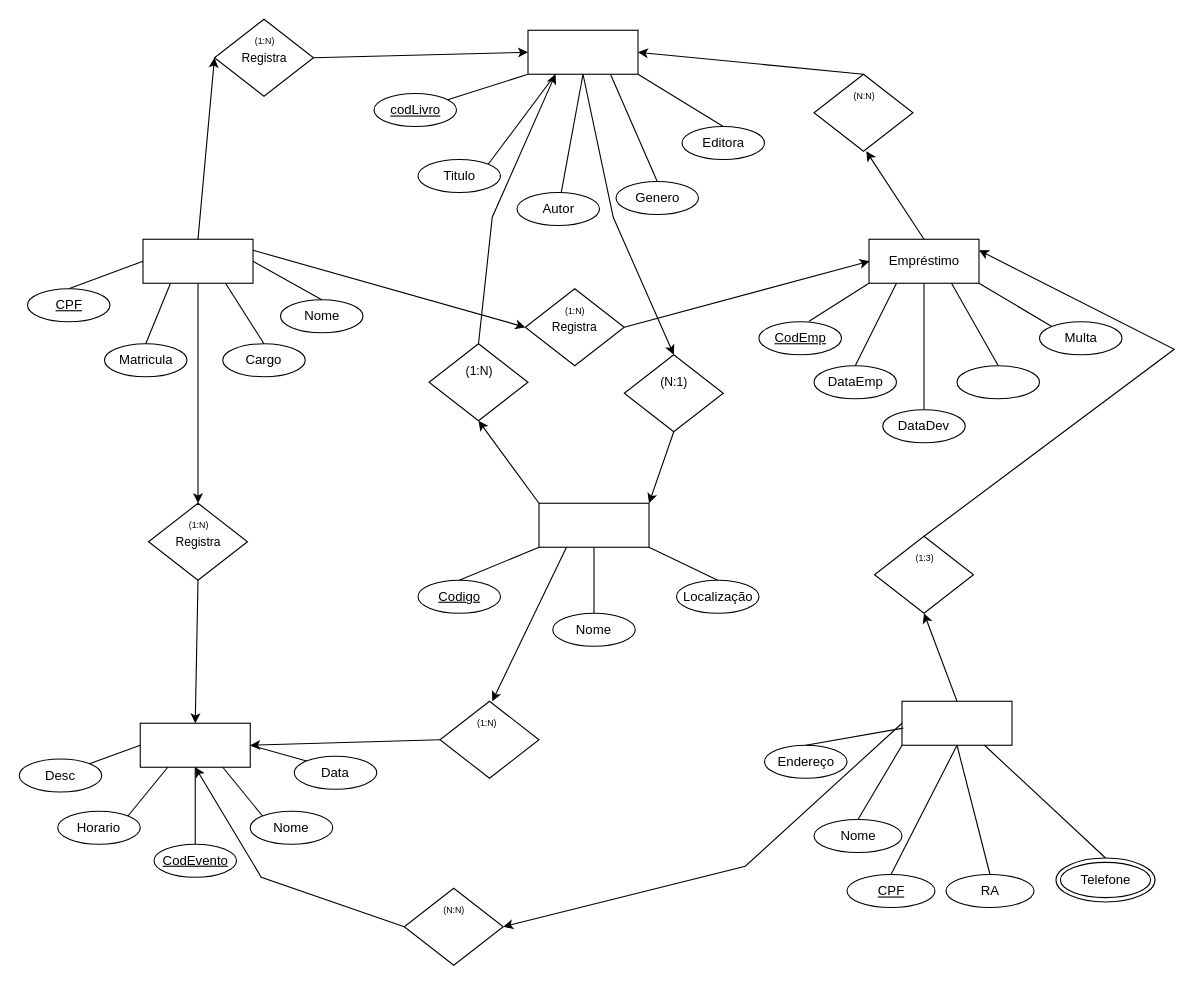
The diagram is 1202 pixels wide and 985 high, and some of its shapes have lost their labels. The shapes that lost their labels are listed below. From the top down, each one's box as (x1, y1, x2, y2) in pixels, then its label:
(527, 29, 638, 74): Livro
(813, 73, 913, 151): Possui
(142, 238, 253, 283): Funcionario
(428, 343, 528, 421): Oferece
(623, 354, 723, 432): Pertence
(956, 365, 1040, 399): Status
(538, 502, 649, 547): Biblioteca
(873, 535, 974, 613): Faz
(439, 700, 539, 778): Organiza
(901, 700, 1012, 745): Aluno
(139, 722, 250, 767): Evento
(403, 887, 503, 965): Participa
